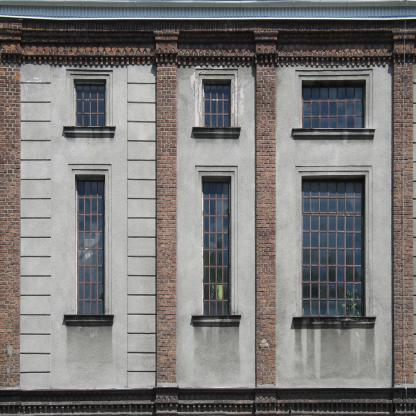Building Outline: (0, 1, 416, 416)
Facade: (0, 1, 416, 416)
Floor: (0, 163, 416, 387), (0, 18, 416, 156)
Floor Slab: (0, 156, 416, 163), (0, 388, 416, 394)
Molding: (0, 17, 416, 66), (0, 387, 416, 416)
Pillar: (153, 31, 180, 416), (252, 31, 279, 416), (391, 30, 416, 416), (0, 17, 23, 416)
Sill: (293, 316, 377, 329), (292, 128, 376, 140), (63, 126, 116, 138), (64, 315, 114, 327), (192, 315, 241, 326), (192, 127, 241, 138)
Window: (303, 180, 364, 316), (77, 180, 105, 315), (203, 180, 230, 314), (302, 83, 364, 128), (76, 84, 106, 126), (204, 83, 231, 127)
